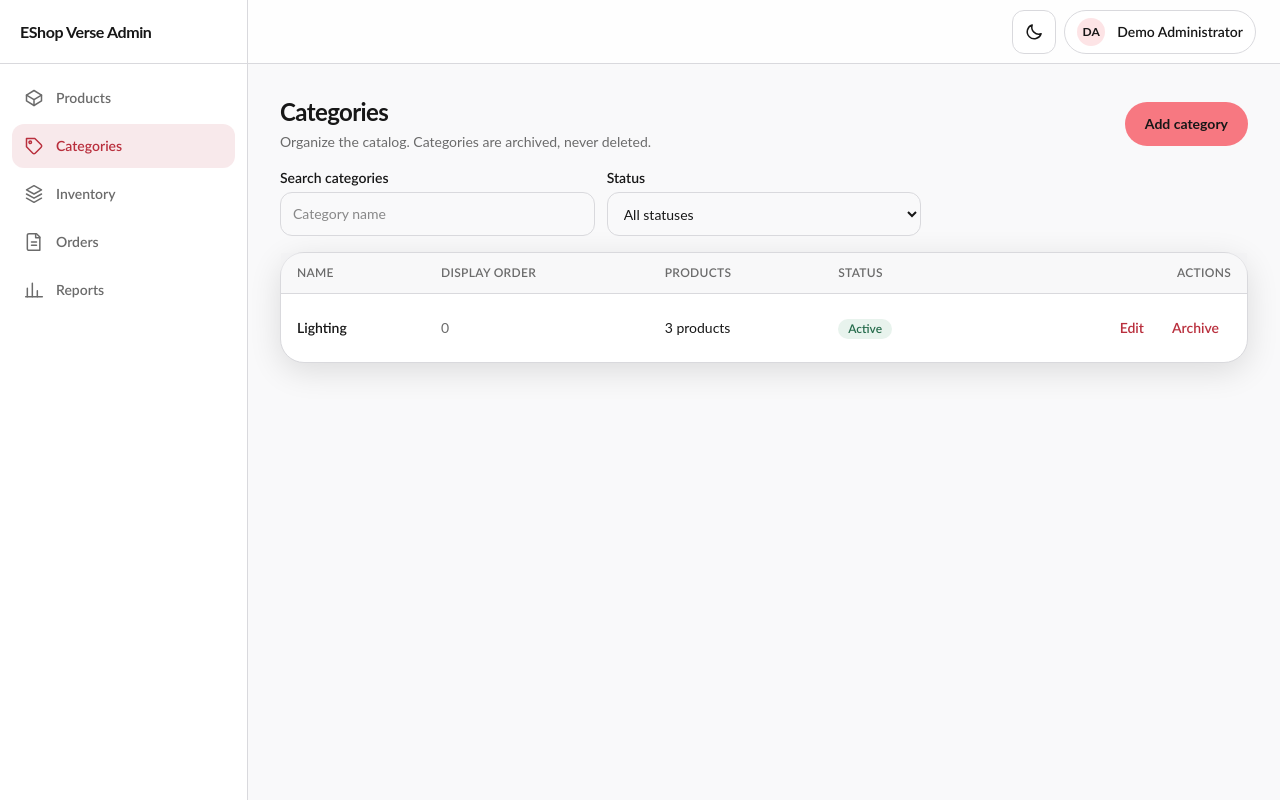
Test: CategoriesPage (A-04) › create_category_maps_name_conflict_to_the_field
Expected: the table named "Categories" is shown, [281,253,1247,362]
Click the button "Add category": (1186, 124) [1125,102,1248,146]
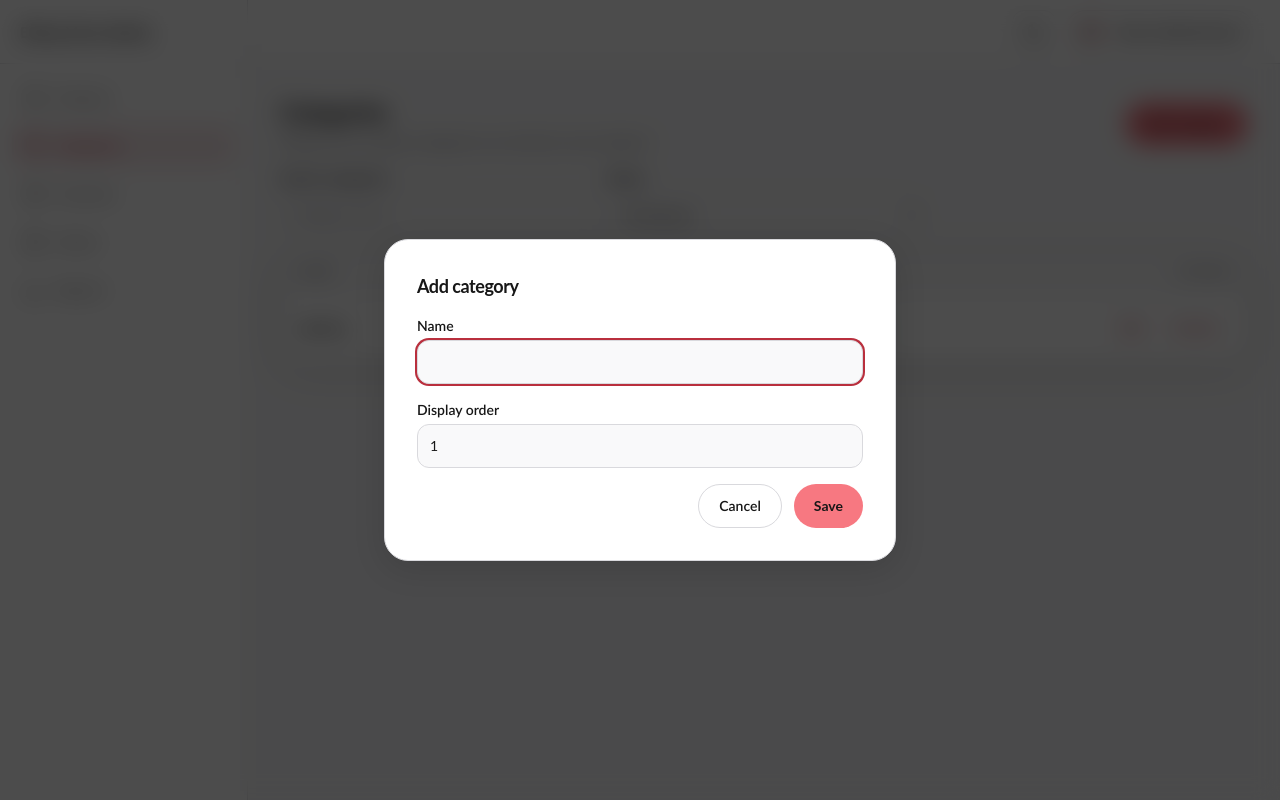
In the field labelled "Name": (640, 362) [417,340,863,384], type "Lighting"
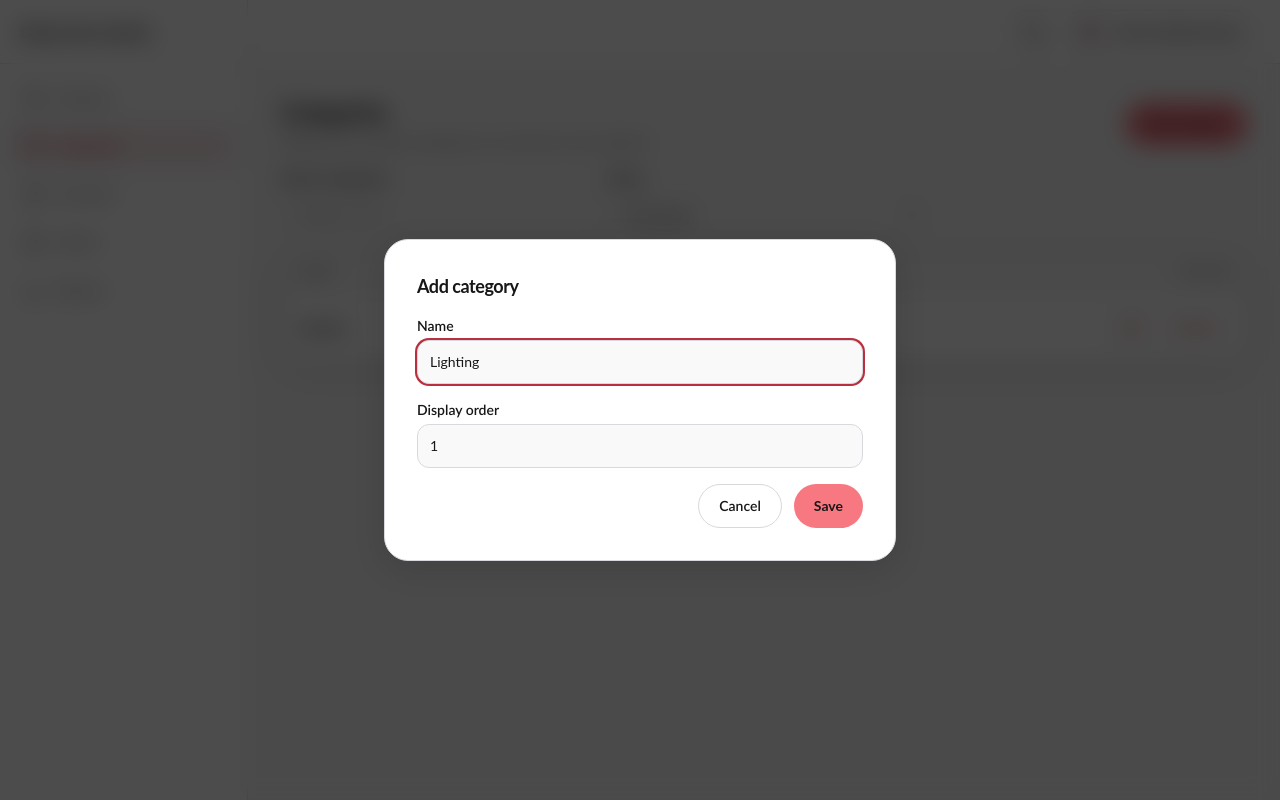
Click the button "Save": (828, 506) [794,484,863,528]
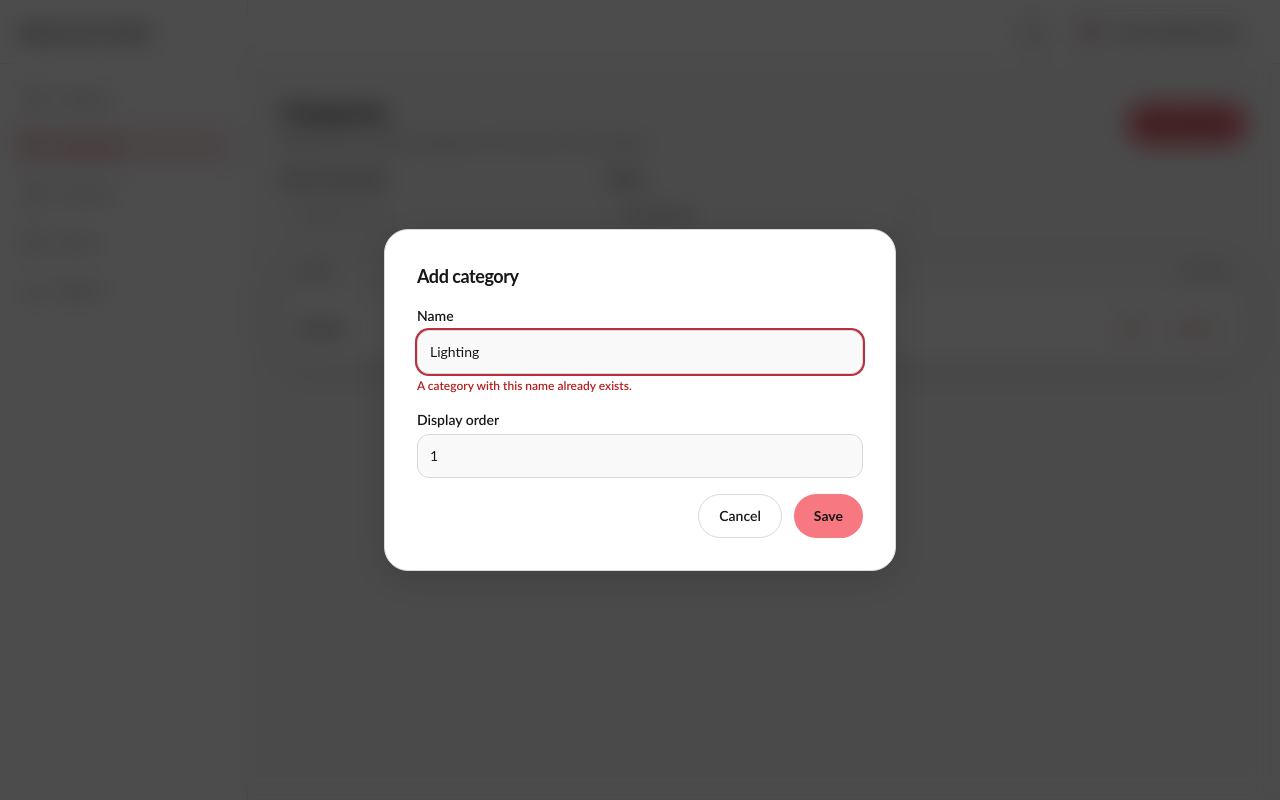
Now the text "A category with this name already exists." is shown, box [417,378,632,393]
